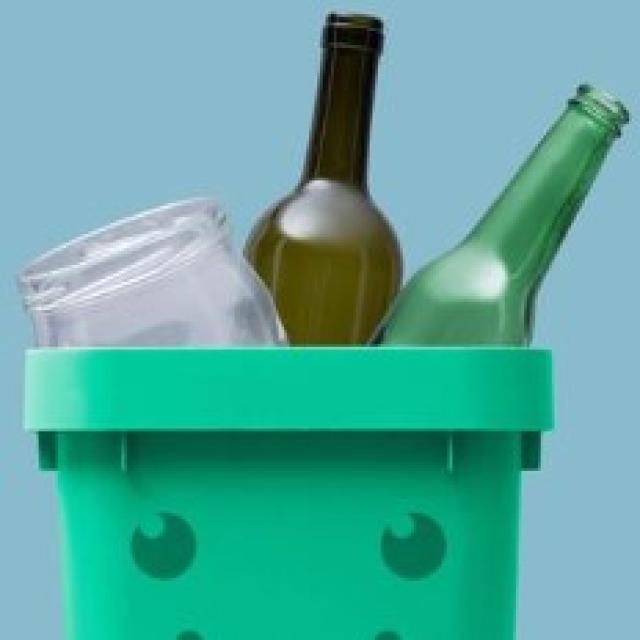electronic: (19, 12, 632, 345)
